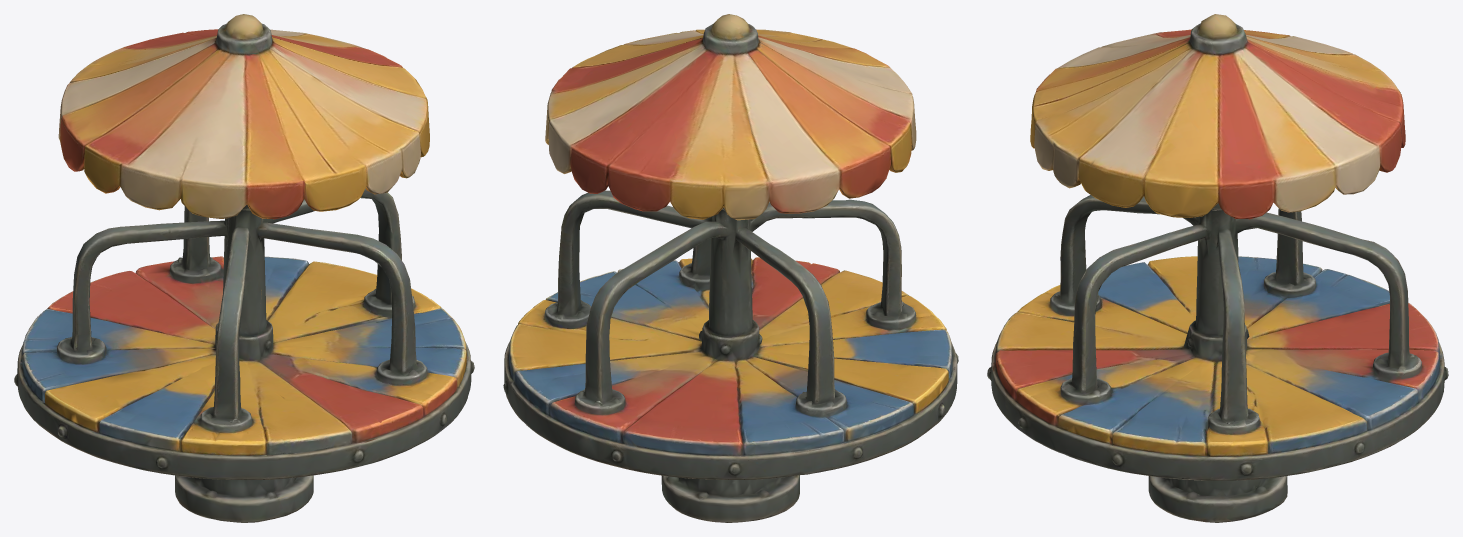
File: calesita.glb
The picture shows the model from 3 angles, left to right: view 1: azimuth 30°, elevation 25°; view 2: azimuth 150°, elevation 25°; view 3: azimuth 270°, elevation 25°; orthographic projection.
Parts seen in each view (by area): view 1: tripo_node_8956e50a-4397-4091-89ee-dfd4d6f82210; view 2: tripo_node_8956e50a-4397-4091-89ee-dfd4d6f82210; view 3: tripo_node_8956e50a-4397-4091-89ee-dfd4d6f82210.
Part boxes in pixels (x1,y1,x2,y2): tripo_node_8956e50a-4397-4091-89ee-dfd4d6f82210: [14, 14, 474, 522]; tripo_node_8956e50a-4397-4091-89ee-dfd4d6f82210: [503, 14, 958, 522]; tripo_node_8956e50a-4397-4091-89ee-dfd4d6f82210: [987, 14, 1448, 522].
Bounding box in the file's own units: 0.8721 × 1 × 0.8729.
1 material, 1 textured.
